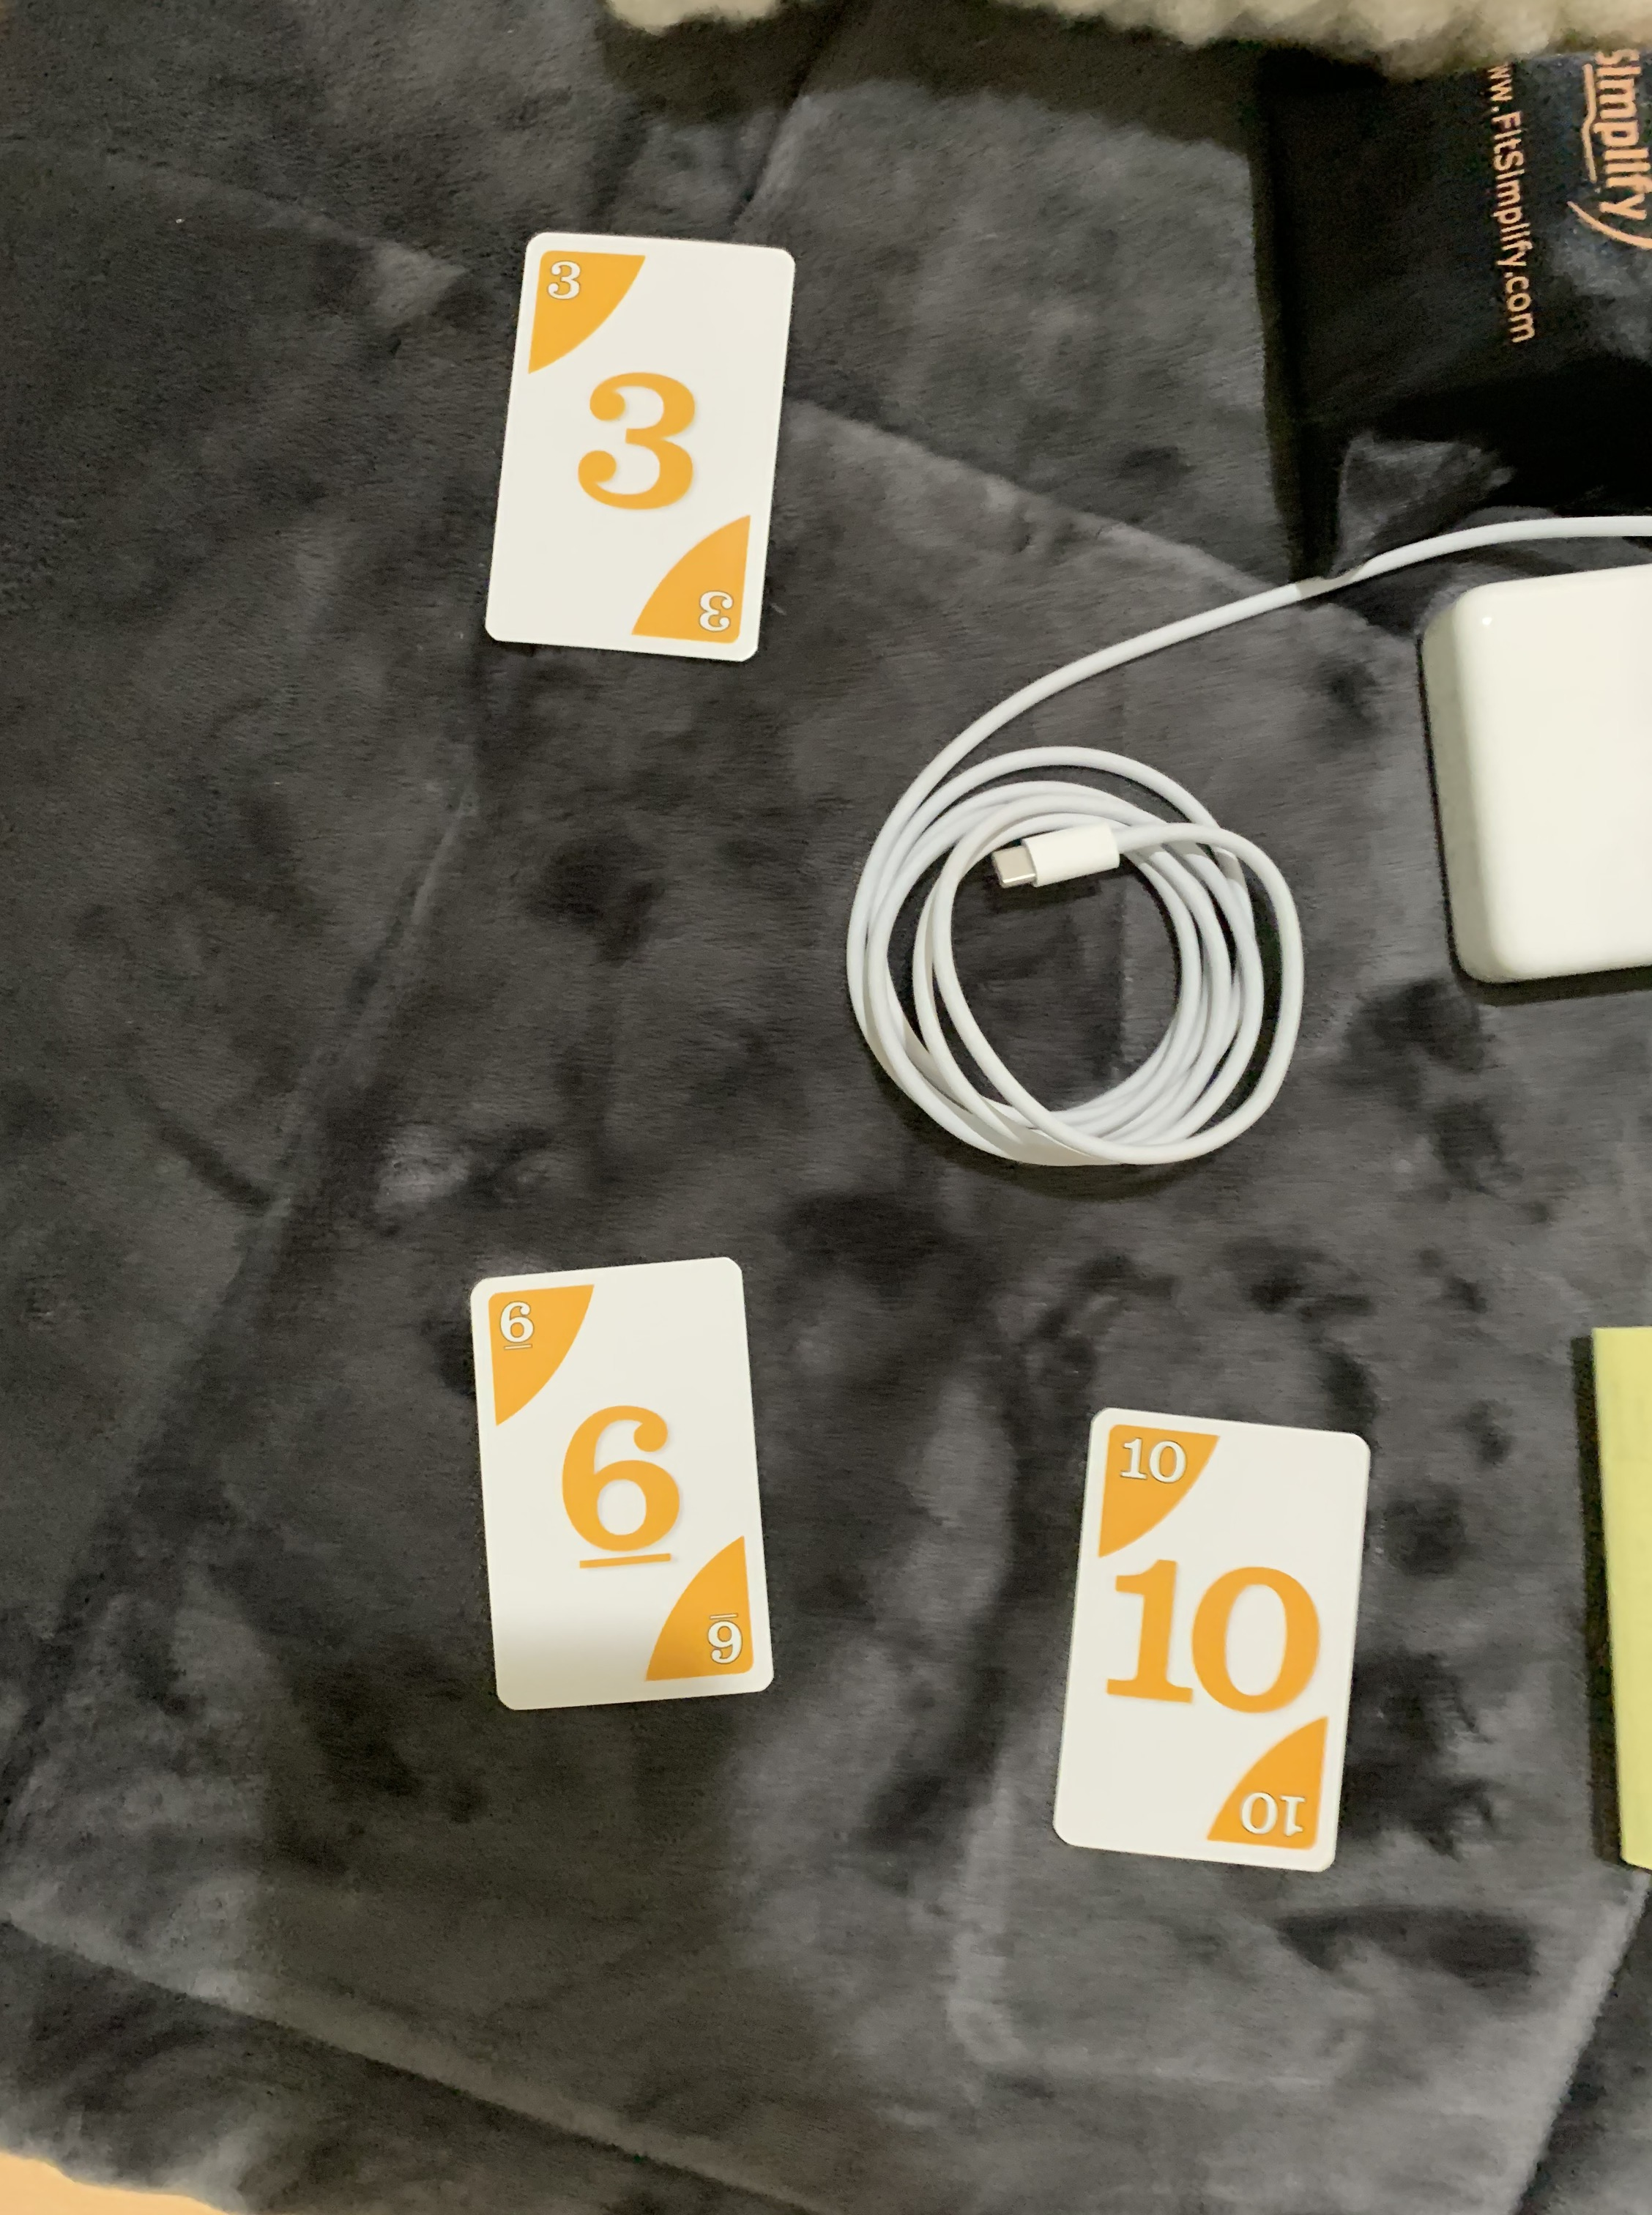six: (460, 1248, 783, 1724)
ten: (1039, 1399, 1383, 1887)
three: (463, 217, 810, 674)
